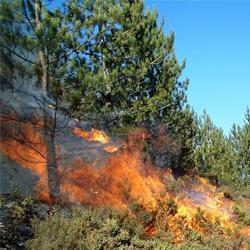fire: (73, 162, 159, 201), (11, 129, 48, 162)
